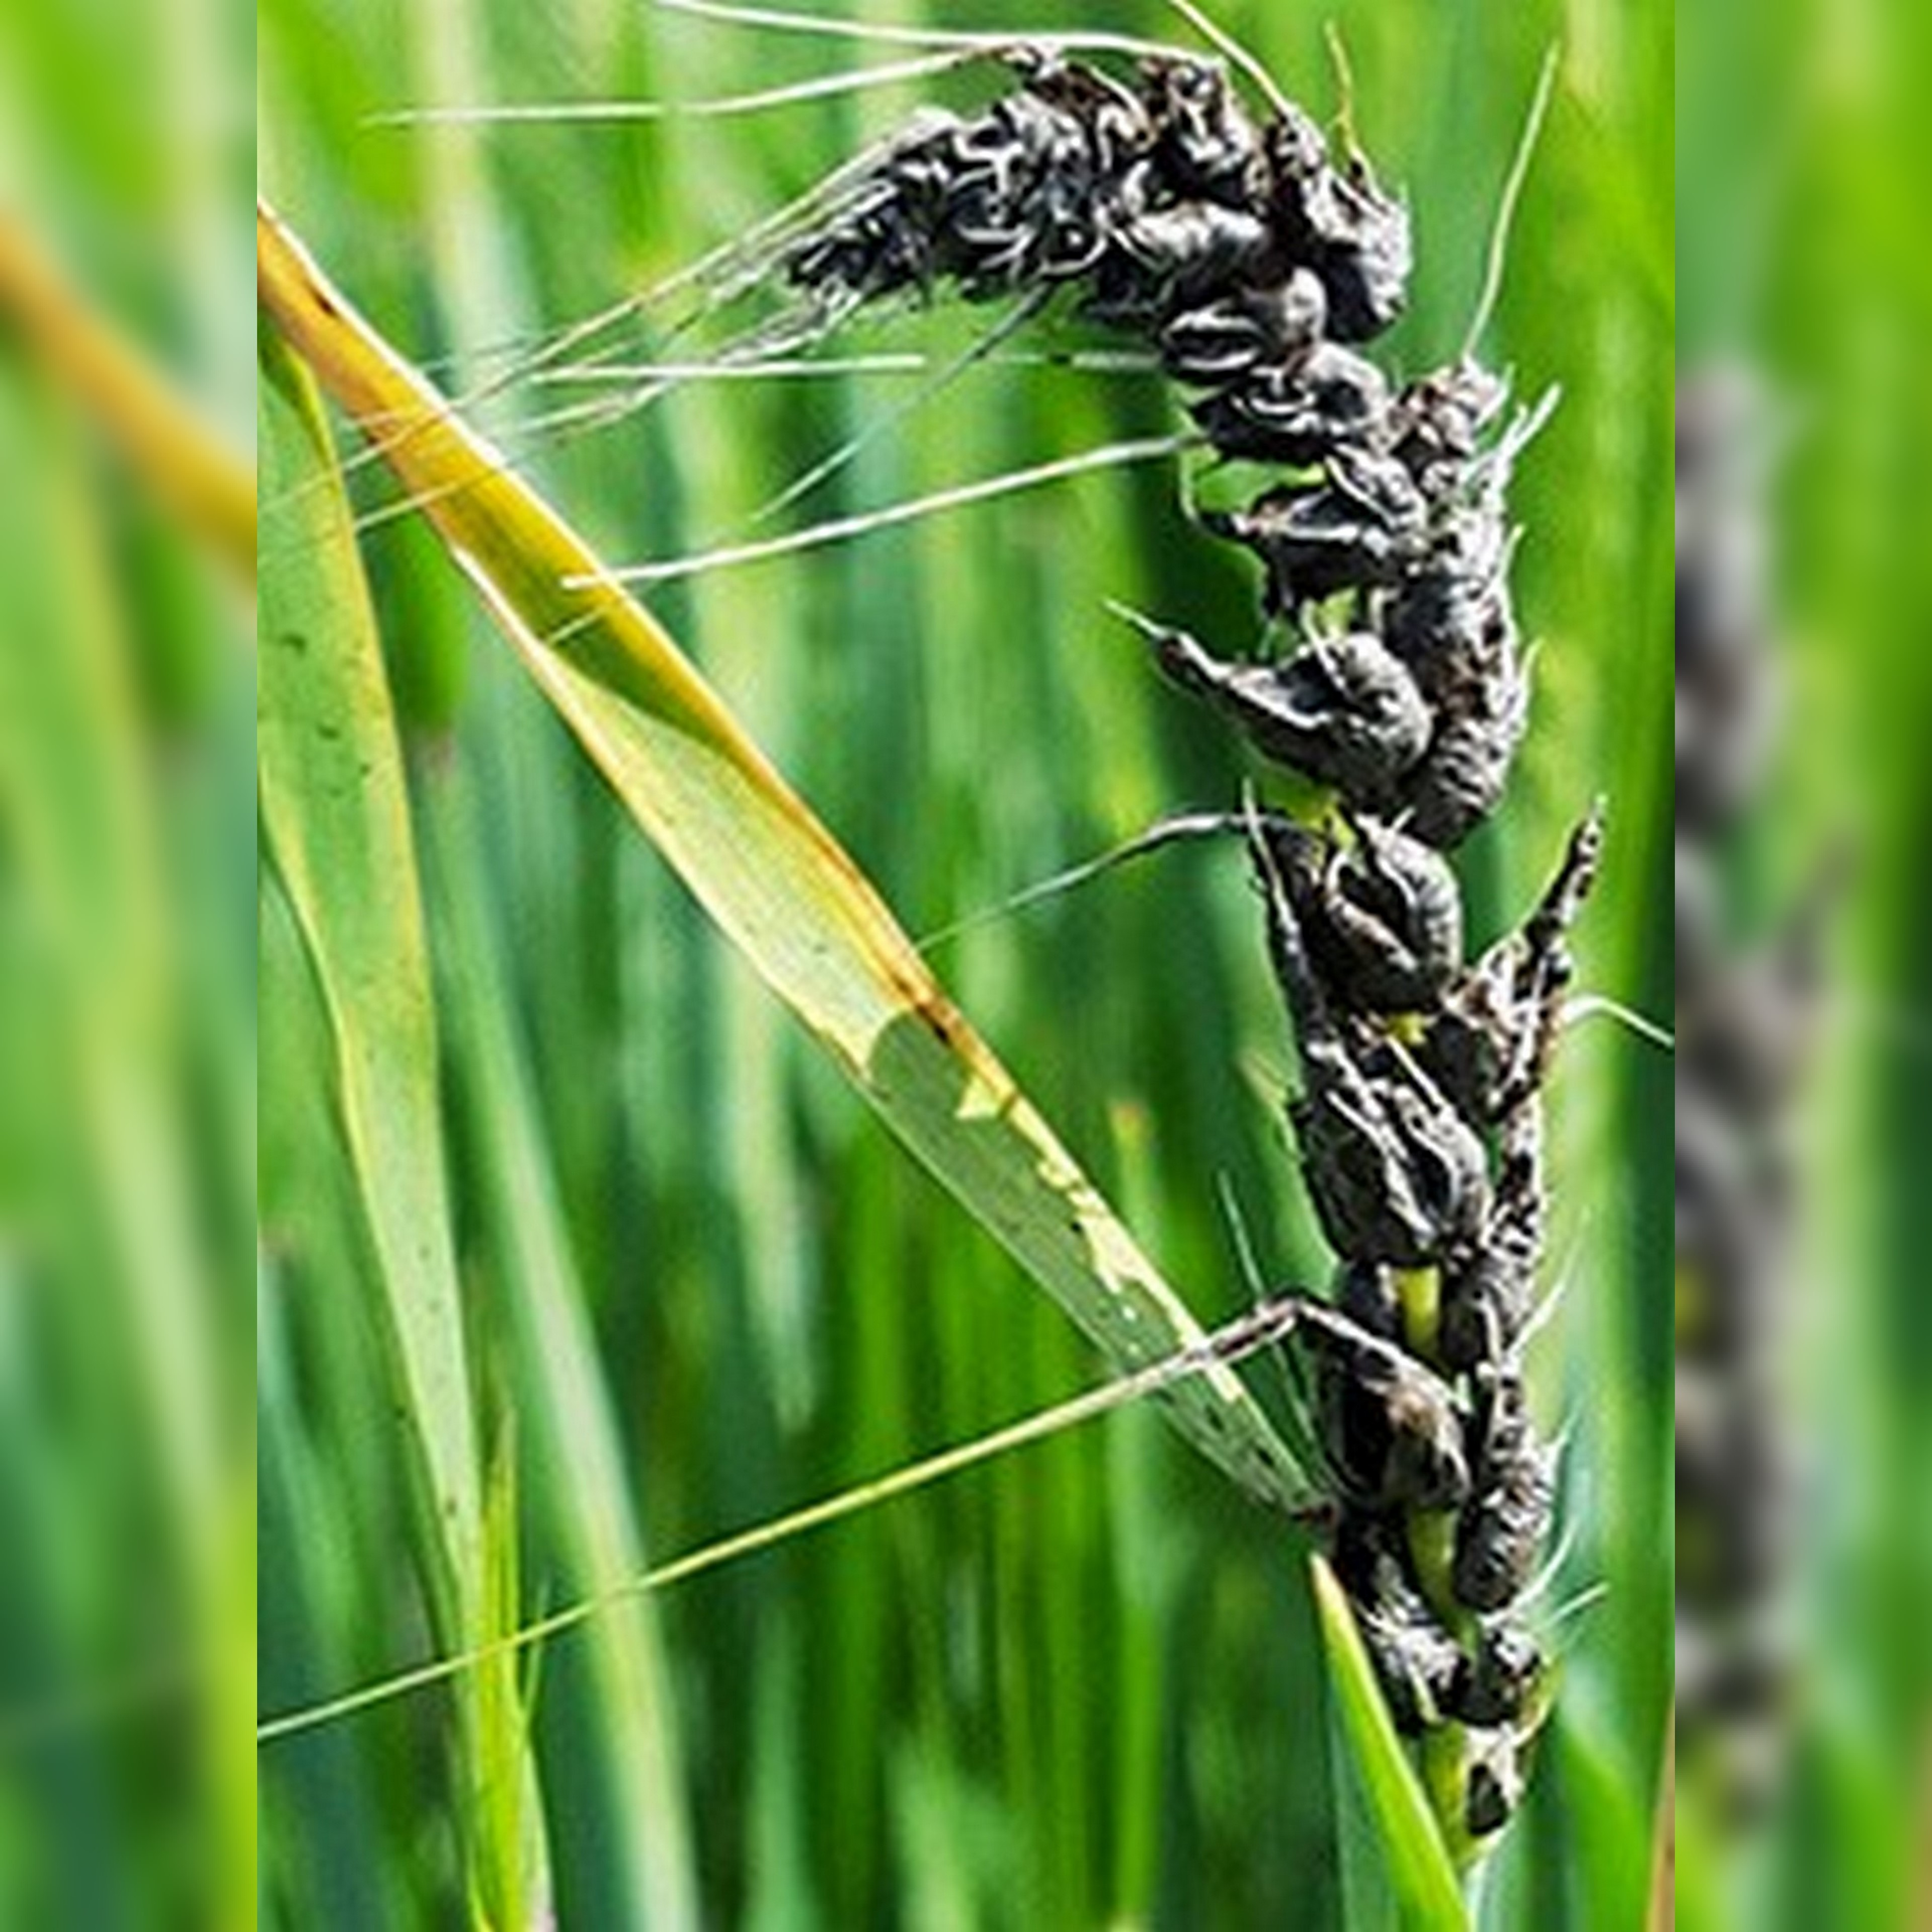Wheat Loose Smut: (805, 12, 1615, 1693)
